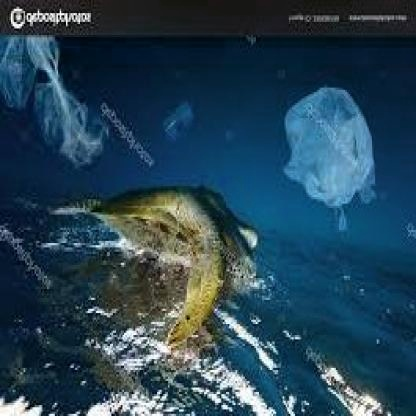pbag: (278, 83, 388, 237), (24, 37, 105, 175), (2, 35, 40, 116)
pbottle: (156, 92, 199, 151)
